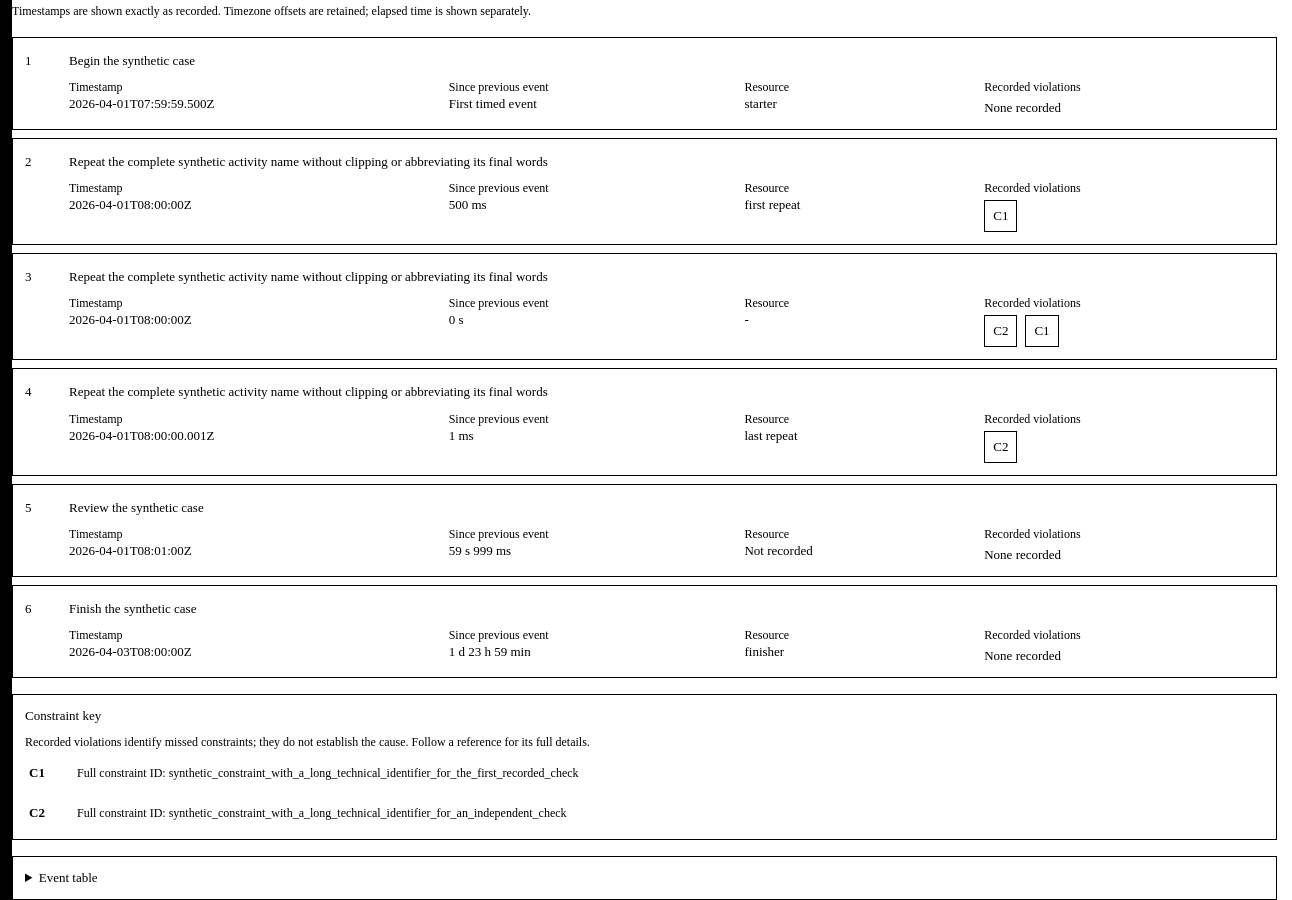
it: TraceTimeline readability › shows all six full event names and repeats in chronological rows, with separate measured gaps
(page scrolled)
Expected: the text "first repeat" is shown, [744,197,800,212]
Expected: the text "-" is shown, [744,312,749,327]
Click the heading "Event table". click: (68, 878)
box: [39,870,98,885]
(page scrolled)
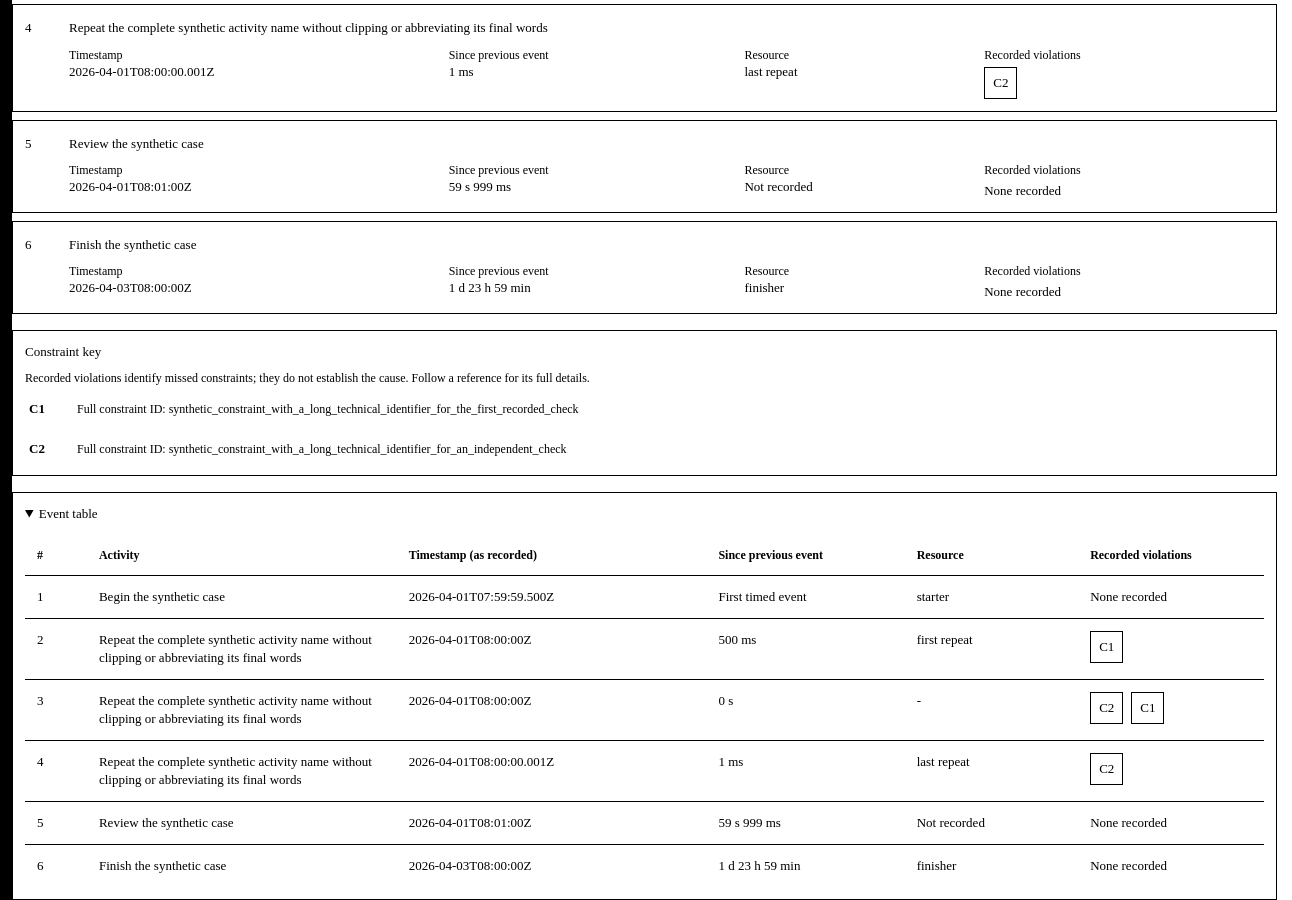
Now the cell "2026-04-01T07:59:59.500Z" is shown, box [397,576,706,619]
Now the cell "First timed event" is shown, box [706,576,905,619]
Now the cell "starter" is shown, box [905,576,1078,619]
